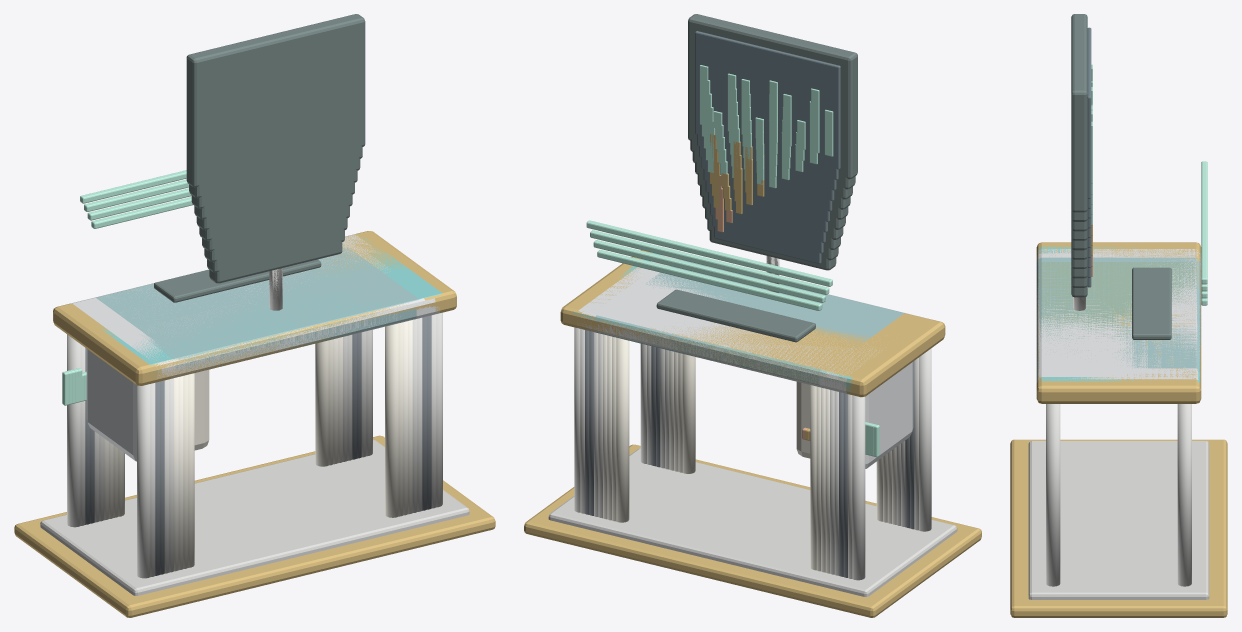
The model's file is Gear04.fbx.
3 renders of one model, left to right at view 1: azimuth 30°, elevation 25°; view 2: azimuth 150°, elevation 25°; view 3: azimuth 270°, elevation 25°, orthographic. The views are drawn at different scales.
Visible parts, largest first — view 1: Gear04_V10_Ink, Gear04_V9_Chrome, Gear04_V6_Chrome, Gear04_V10_Gold, Gear04_V10_Chrome, Gear04_V2_Ink, Gear04_V2_Blue, Gear04_V3_Blue, Gear04_V1_Ink, Gear04_V9_Gold, Gear04_V5_Chrome, Gear04_V1_Ivory (+22 smaller); view 2: Gear04_V5_Chrome, Gear04_V10_Gold, Gear04_V6_Chrome, Gear04_V10_Chrome, Gear04_V10_Glass, Gear04_V10_Ink, Gear04_V9_Gold, Gear04_V1_Ivory, Gear04_V10_Glow, Gear04_V4_Platinum, Gear04_V2_Blue, Gear04_V7_Platinum (+30 smaller); view 3: Gear04_V5_Chrome, Gear04_V10_Chrome, Gear04_V10_Gold, Gear04_V6_Chrome, Gear04_V9_Gold, Gear04_V1_Sage, Gear04_V4_Platinum, Gear04_V9_Chrome, Gear04_V10_Ink, Gear04_V7_Platinum, Gear04_V3_Blue, Gear04_V2_Blue (+10 smaller).
Part boxes in pixels (bbox=[...]): Gear04_V10_Ink: bbox=[154, 14, 365, 302]; Gear04_V9_Chrome: bbox=[48, 269, 463, 591]; Gear04_V6_Chrome: bbox=[62, 269, 448, 587]; Gear04_V10_Gold: bbox=[14, 231, 495, 617]; Gear04_V10_Chrome: bbox=[40, 268, 469, 595]; Gear04_V2_Ink: bbox=[193, 148, 344, 298]; Gear04_V2_Blue: bbox=[96, 248, 416, 370]; Gear04_V3_Blue: bbox=[142, 244, 418, 370]; Gear04_V1_Ink: bbox=[209, 164, 342, 283]; Gear04_V9_Gold: bbox=[23, 232, 488, 616]; Gear04_V5_Chrome: bbox=[66, 277, 442, 589]; Gear04_V1_Ivory: bbox=[118, 323, 398, 567]; Gear04_V5_Chrome: bbox=[581, 256, 916, 591]; Gear04_V10_Gold: bbox=[524, 250, 981, 617]; Gear04_V6_Chrome: bbox=[570, 256, 936, 589]; Gear04_V10_Chrome: bbox=[548, 262, 957, 596]; Gear04_V10_Glass: bbox=[695, 31, 840, 169]; Gear04_V10_Ink: bbox=[656, 14, 857, 342]; Gear04_V9_Gold: bbox=[530, 251, 974, 616]; Gear04_V1_Ivory: bbox=[616, 337, 882, 570]; Gear04_V10_Glow: bbox=[586, 65, 879, 457]; Gear04_V4_Platinum: bbox=[592, 270, 857, 390]; Gear04_V2_Blue: bbox=[646, 259, 904, 375]; Gear04_V7_Platinum: bbox=[577, 254, 927, 393]; Gear04_V5_Chrome: bbox=[1028, 297, 1208, 583]; Gear04_V10_Chrome: bbox=[1028, 297, 1209, 599]; Gear04_V10_Gold: bbox=[1010, 242, 1227, 617]; Gear04_V6_Chrome: bbox=[1028, 297, 1209, 585]; Gear04_V9_Gold: bbox=[1010, 244, 1227, 605]; Gear04_V1_Sage: bbox=[1036, 262, 1198, 361]; Gear04_V4_Platinum: bbox=[1036, 255, 1197, 376]; Gear04_V9_Chrome: bbox=[1028, 297, 1207, 592]; Gear04_V10_Ink: bbox=[1071, 14, 1171, 339]; Gear04_V7_Platinum: bbox=[1036, 249, 1201, 383]; Gear04_V3_Blue: bbox=[1036, 257, 1199, 371]; Gear04_V2_Blue: bbox=[1037, 261, 1201, 369].
Size of the model in its own units: 122 by 162 by 66.
